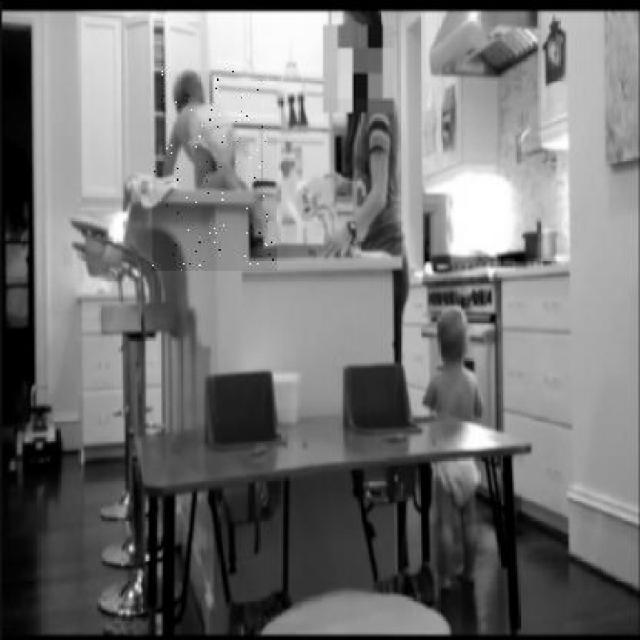child: (152, 71, 277, 271)
